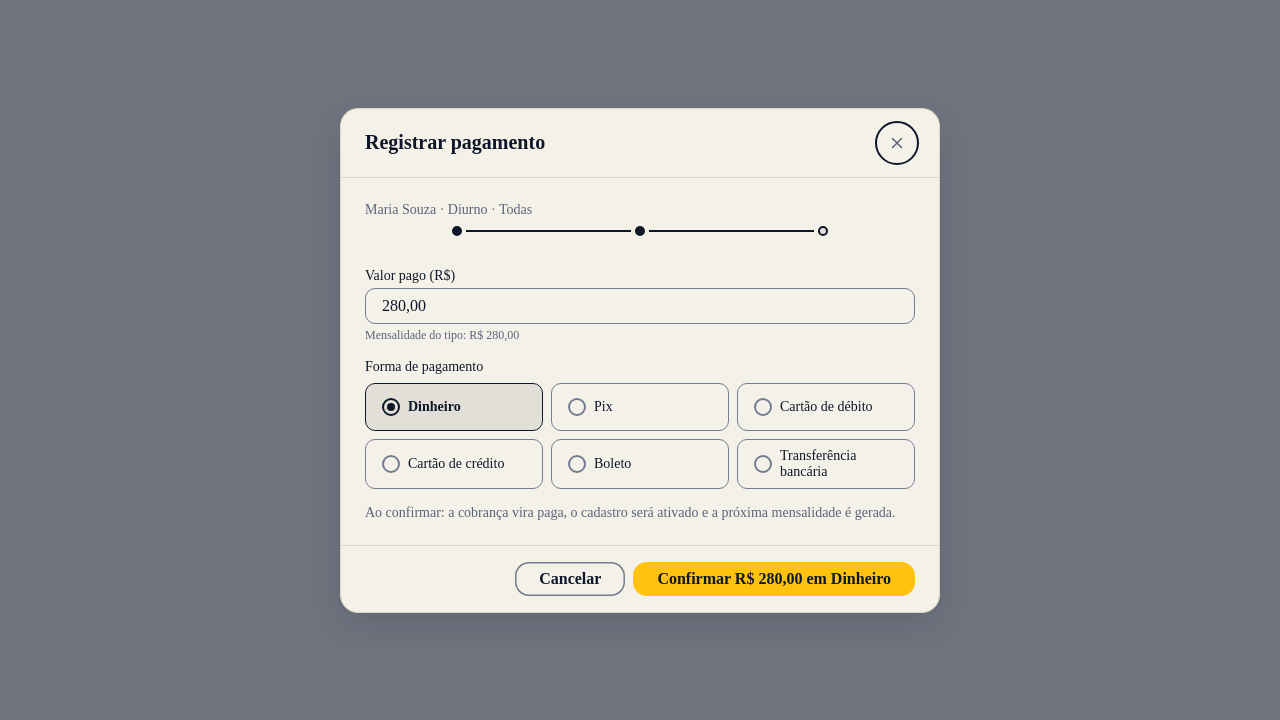
comprovante do pagamento › avisa quando o valor da próxima cobrança foi atualizado
The width and height of the screenshot is (1280, 720).
Click the button "Confirmar R$ 280,00 em Dinheiro" at {"x": 774, "y": 578}, box [633, 562, 915, 596]
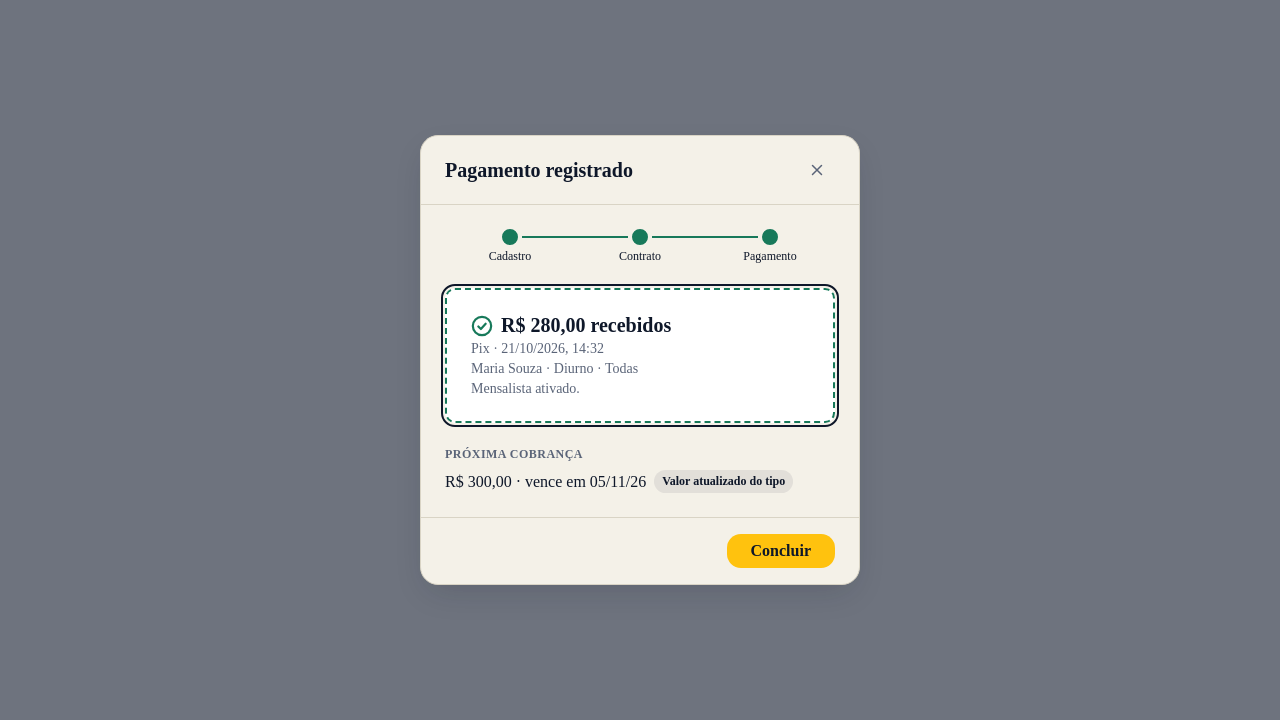
expect the dialog "Pagamento registrado" is shown: met, box [420, 135, 860, 585]
expect the text "R$ 300,00 · vence em 05/11/26" is shown: met, box [445, 472, 646, 490]
expect the text "Valor atualizado do tipo" is shown: met, box [654, 470, 793, 493]
